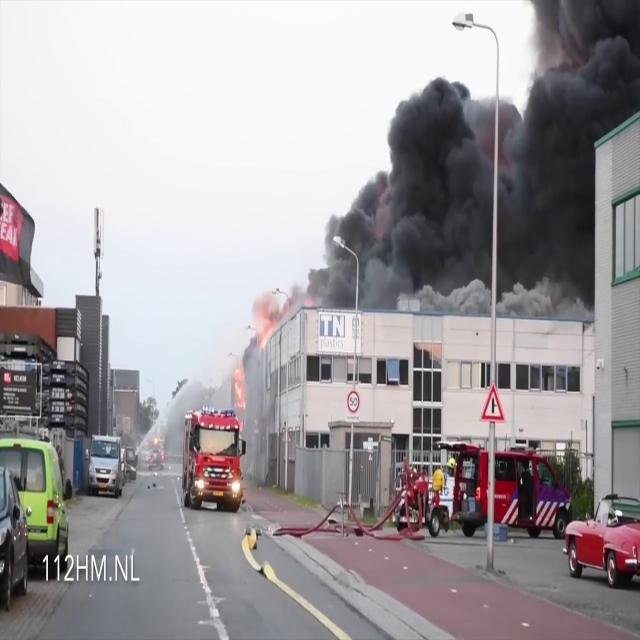Smoke: (276, 49, 596, 321)
